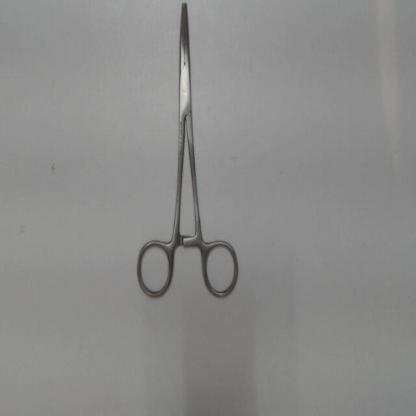Crile Artery Forceps: (134, 3, 248, 304)
